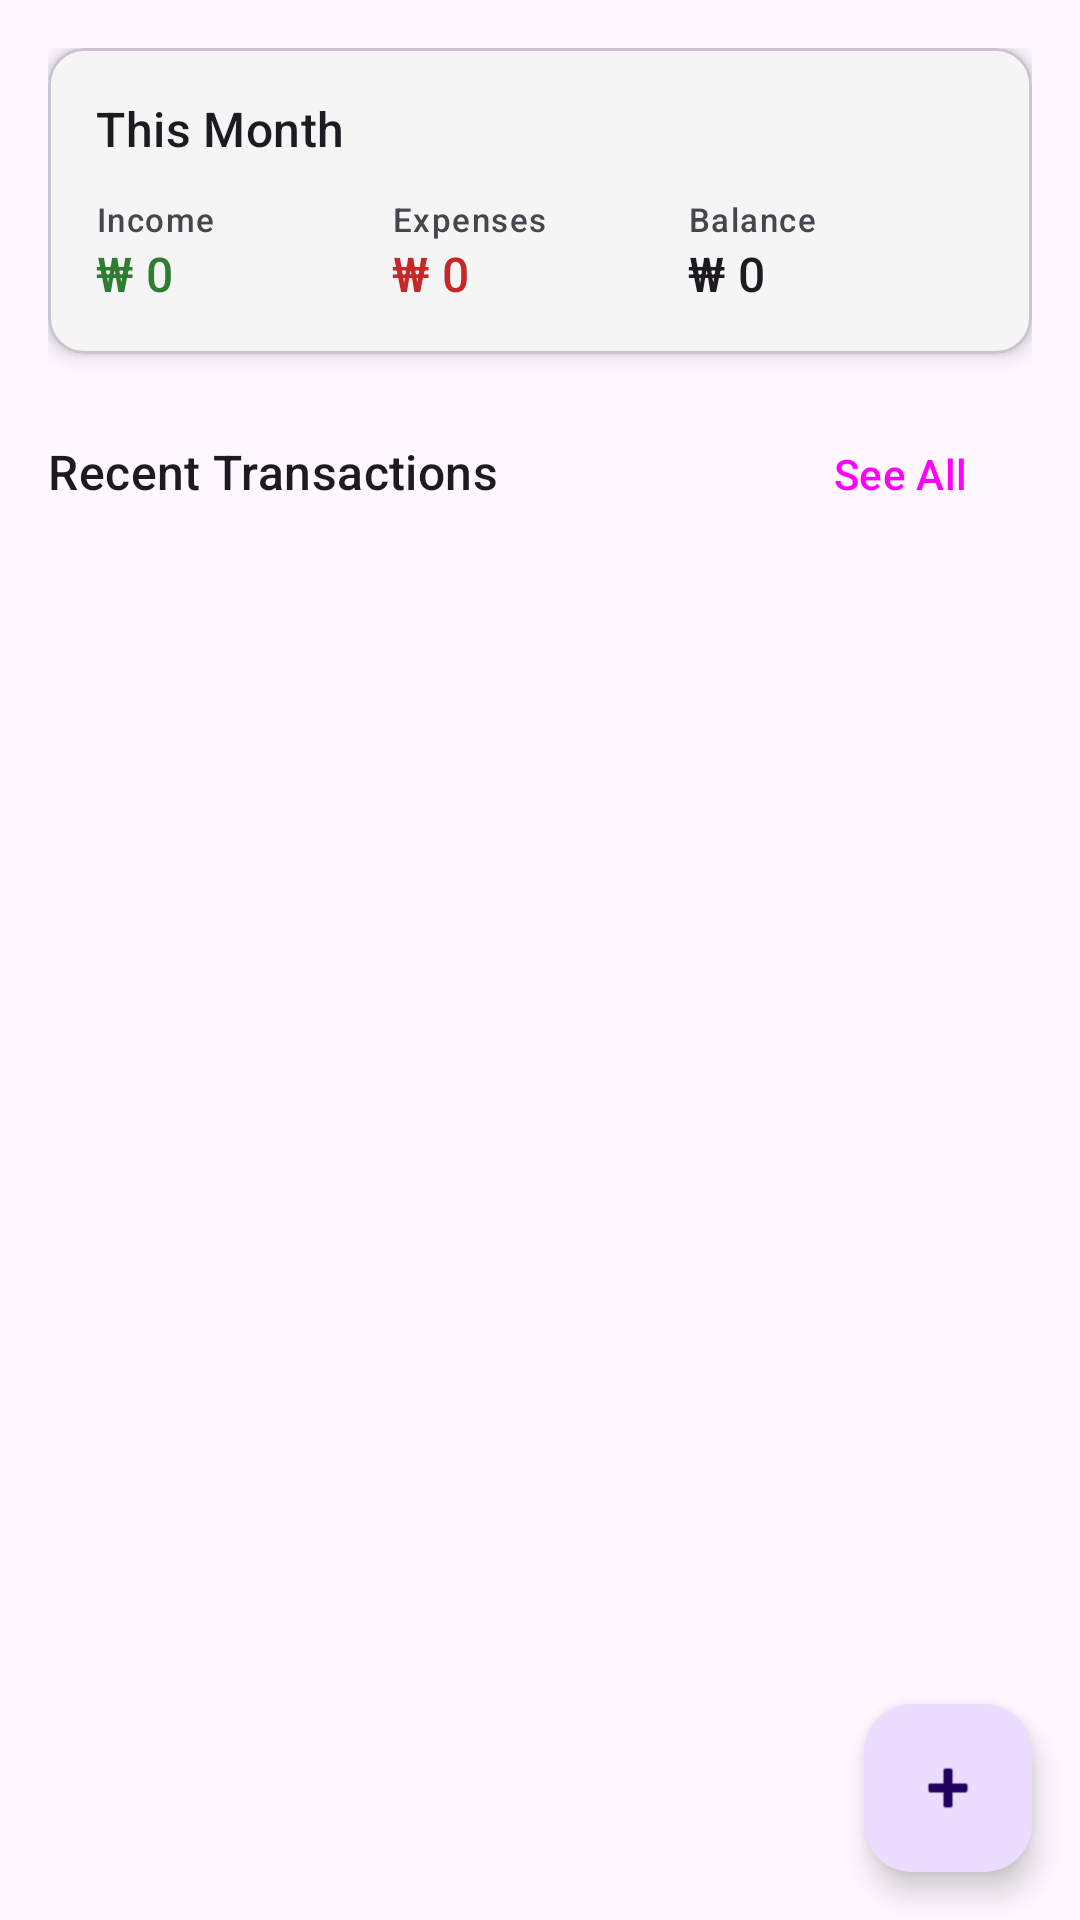

Where icons sit on this 1080 x 1920 app screen, as [x1,y1,x2,y2]:
Add Transaction: [864,1704,1032,1872]
